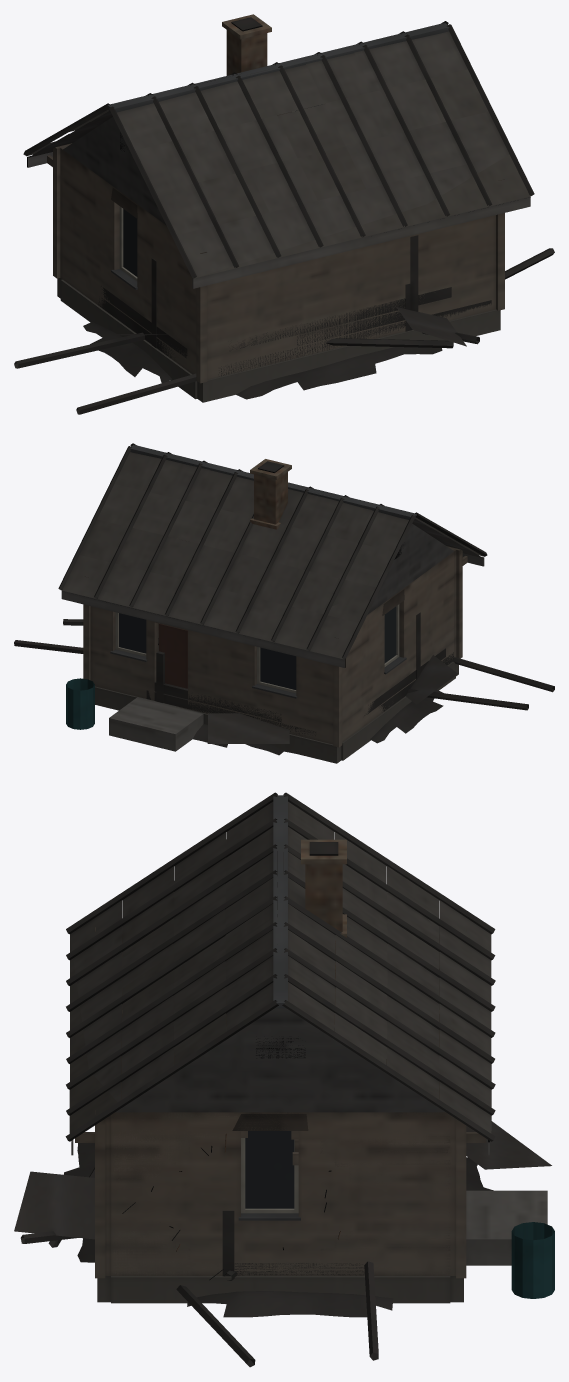
The model's file is ph_dacha.glb.
3 renders of one model, top to bottom at view 1: azimuth 30°, elevation 25°; view 2: azimuth 150°, elevation 25°; view 3: azimuth 270°, elevation 25°, orthographic. The views are drawn at different scales.
Parts seen in each view (by area): view 1: dacha_s0, dacha_s1f, dacha_sruin, dacha_s1g, dacha_s2; view 2: dacha_s0, dacha_s1f, dacha_sruin, dacha_s2, dacha_s1g; view 3: dacha_s0, dacha_s1f, dacha_s2, dacha_sruin, dacha_s1g.
Boxes of the visible parts, x1,y1,x2,y2 form: dacha_s0: [27, 14, 530, 402]; dacha_s1f: [23, 21, 534, 359]; dacha_sruin: [14, 235, 554, 414]; dacha_s1g: [155, 90, 508, 278]; dacha_s2: [354, 31, 508, 203]; dacha_s0: [61, 445, 484, 763]; dacha_s1f: [58, 443, 487, 663]; dacha_sruin: [14, 518, 554, 755]; dacha_s2: [62, 465, 384, 709]; dacha_s1g: [102, 524, 457, 659]; dacha_s0: [69, 795, 554, 1303]; dacha_s1f: [65, 792, 495, 1141]; dacha_s2: [93, 946, 487, 1280]; dacha_sruin: [14, 914, 551, 1367]; dacha_s1g: [70, 837, 491, 1107].
Size of the model in its own units: 11.15 by 5.4 by 7.49.
1 material, 1 textured.
